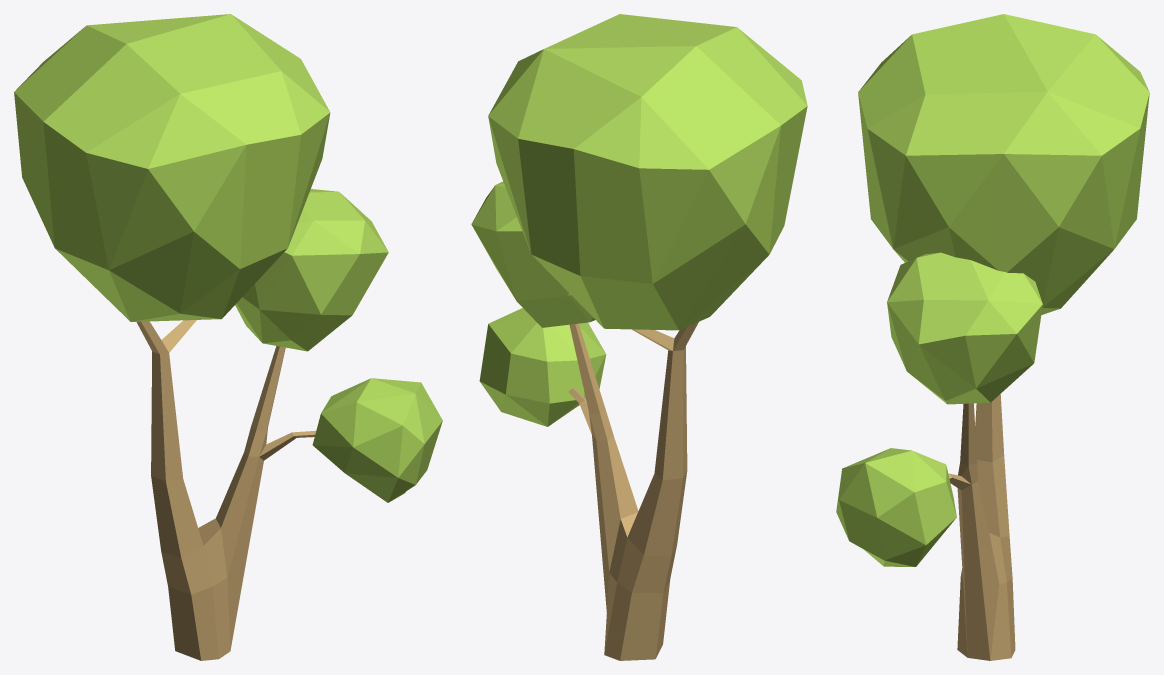
File: Simple_Tree_m_02.fbx
3 views of the same model, side by side, from view 1: azimuth 30°, elevation 25°; view 2: azimuth 150°, elevation 25°; view 3: azimuth 270°, elevation 25° (orthographic). The views are drawn at different scales.
Parts seen in each view (by area): view 1: Simple_Tree_m_02; view 2: Simple_Tree_m_02; view 3: Simple_Tree_m_02.
Boxes of the visible parts, x1=… form: Simple_Tree_m_02: x1=14, y1=14, x2=442, y2=660; Simple_Tree_m_02: x1=471, y1=14, x2=807, y2=660; Simple_Tree_m_02: x1=836, y1=14, x2=1149, y2=660.
Size of the model in its own units: 519 by 911 by 429.
